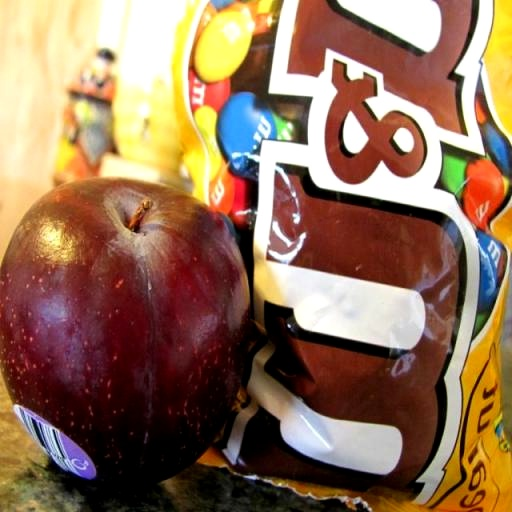fruit: (0, 179, 248, 483)
